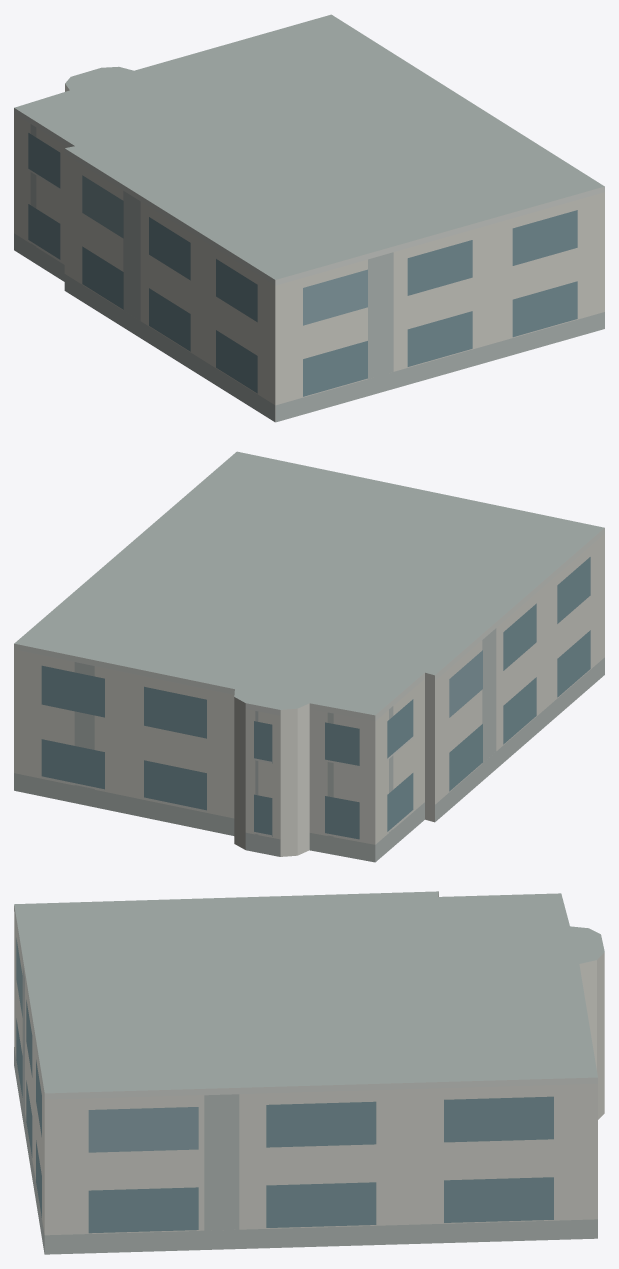
The model's file is survey-upis-32634966.glb.
3 views of the same model, one above another, from view 1: azimuth 30°, elevation 25°; view 2: azimuth 150°, elevation 25°; view 3: azimuth 270°, elevation 25° (orthographic). The views are drawn at different scales.
Parts seen in each view (by area): view 1: survey-upis-32634966.tmp; view 2: survey-upis-32634966.tmp; view 3: survey-upis-32634966.tmp.
Boxes of the visible parts, x1,y1,x2,y2 form: survey-upis-32634966.tmp: (14,14,604,422); survey-upis-32634966.tmp: (14,451,604,862); survey-upis-32634966.tmp: (14,891,604,1254).
Bounding box in the file's own units: 16.42 × 6.1 × 20.28.
